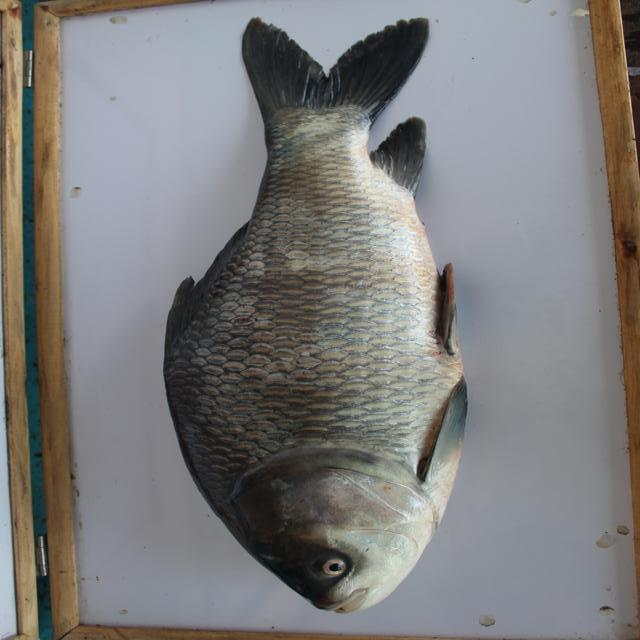Catla: (161, 15, 500, 620)
